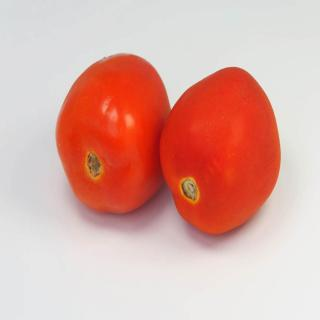Tomat: (160, 67, 282, 236), (56, 53, 172, 215)
